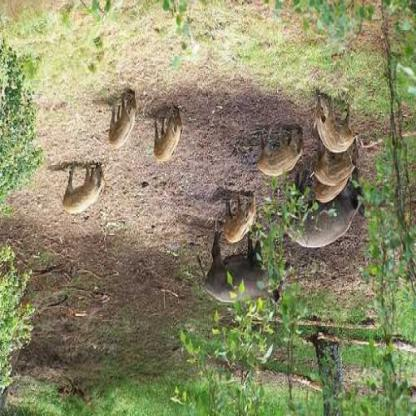boar: (288, 197, 375, 276), (242, 117, 311, 189), (57, 168, 124, 237), (205, 253, 270, 314), (148, 98, 200, 165), (105, 83, 144, 156), (209, 206, 259, 262), (317, 144, 365, 194), (323, 93, 359, 149), (321, 174, 362, 206)
